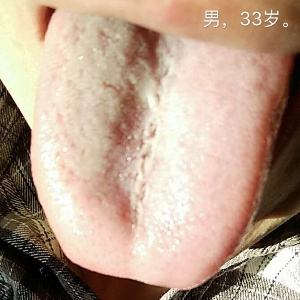st: (33, 38, 284, 285)
